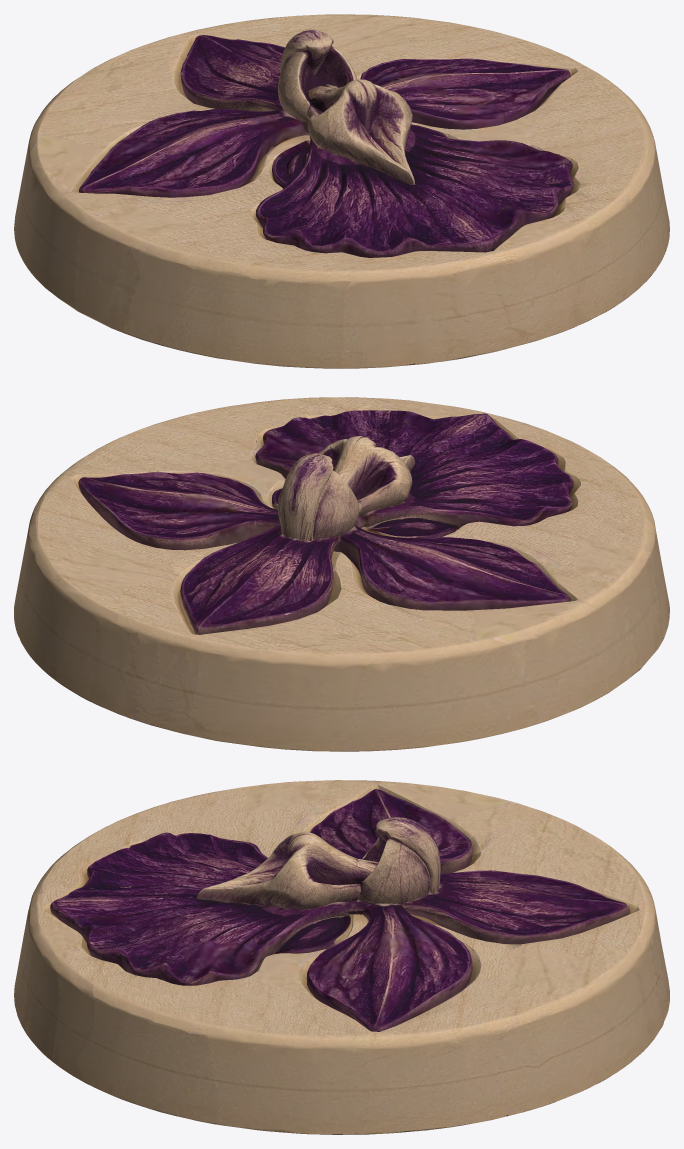
The model's file is ORCHIDEE.glb.
The picture shows the model from 3 angles, top to bottom: view 1: azimuth 30°, elevation 25°; view 2: azimuth 150°, elevation 25°; view 3: azimuth 270°, elevation 25°; orthographic projection.
Visible parts, largest first — view 1: Mesh_0; view 2: Mesh_0; view 3: Mesh_0.
Boxes of the visible parts, x1,y1,x2,y2 form: Mesh_0: (14,14,669,368); Mesh_0: (14,397,669,751); Mesh_0: (14,780,669,1134).
Bounding box in the file's own units: 1.9 × 0.5667 × 1.9.
Materials: 1 (1 with a texture image).
